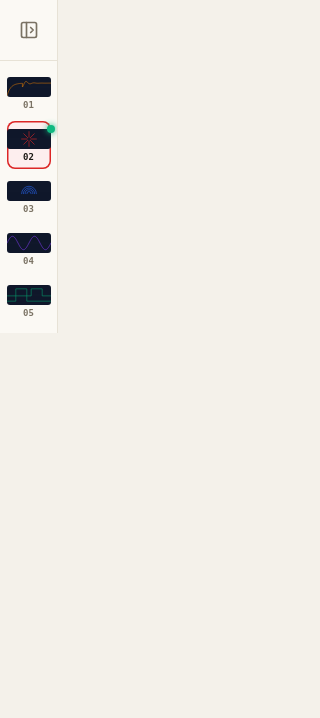
Scenario: SidebarIconRail — Expand button pins sim-heavy section › clicking Expand on a sim-heavy route shows the full accordion (not the rail)
The width and height of the screenshot is (320, 718).
Expected: the text "Course progress" is not shown
Note: Click the Expand button in the icon-rail.
Click the button named "Expand sidebar": click(28, 30) 10,12 -> 46,48
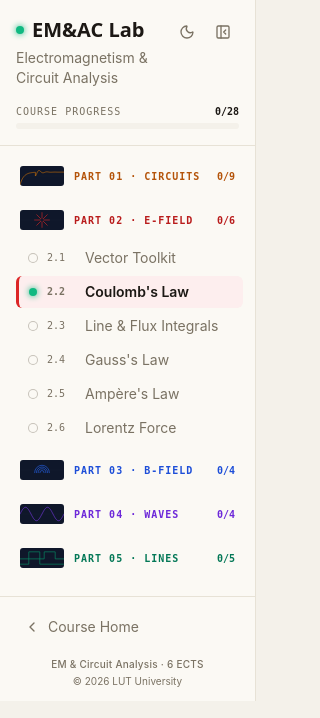
Now the text "Course progress" is shown, box 16,104 -> 121,119
